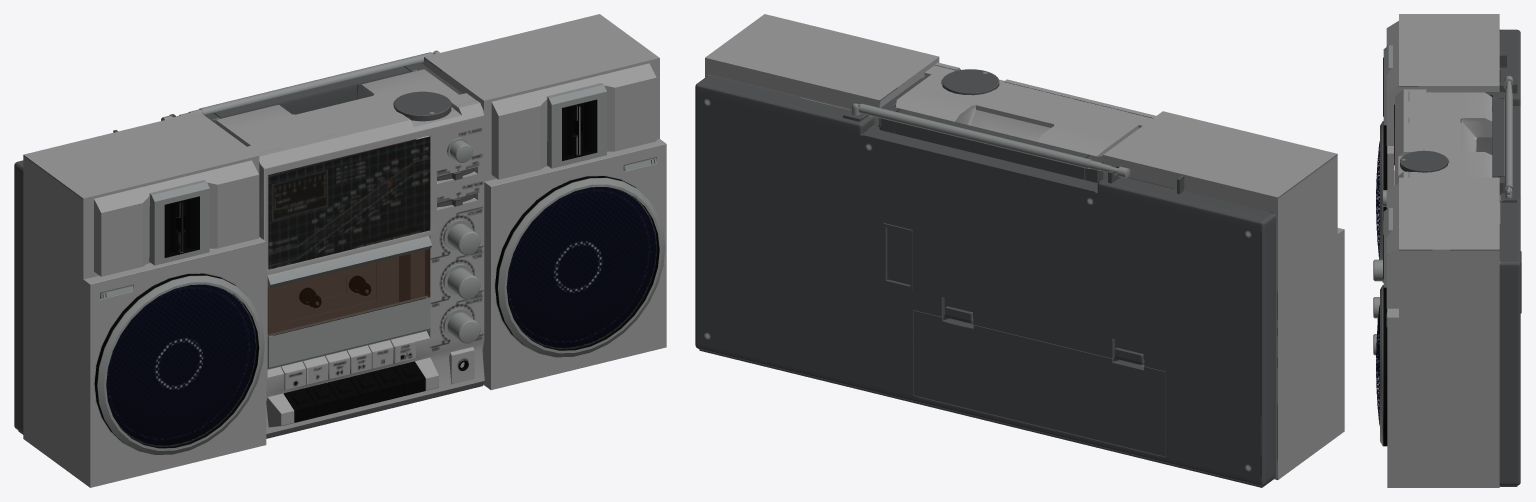
The picture shows the model from 3 angles, left to right: view 1: azimuth 30°, elevation 25°; view 2: azimuth 150°, elevation 25°; view 3: azimuth 270°, elevation 25°; orthographic projection. The views are drawn at different scales.
Parts seen in each view (by area): view 1: Boombox (×14); view 2: Boombox (×5); view 3: Boombox (×5).
Boxes of the visible parts, x1,y1,x2,y2 form: Boombox (×14): [14, 14, 666, 487]; Boombox (×5): [695, 14, 1344, 487]; Boombox (×5): [1373, 14, 1521, 487].
Bounding box in the file's own units: 2 × 0.9471 × 0.5311.
Materials: 1 (1 with a texture image).
